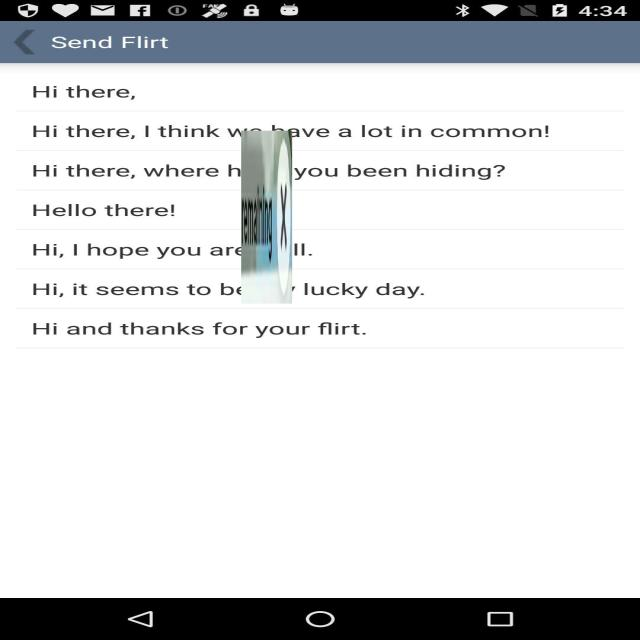misdirection: (241, 130, 292, 304)
